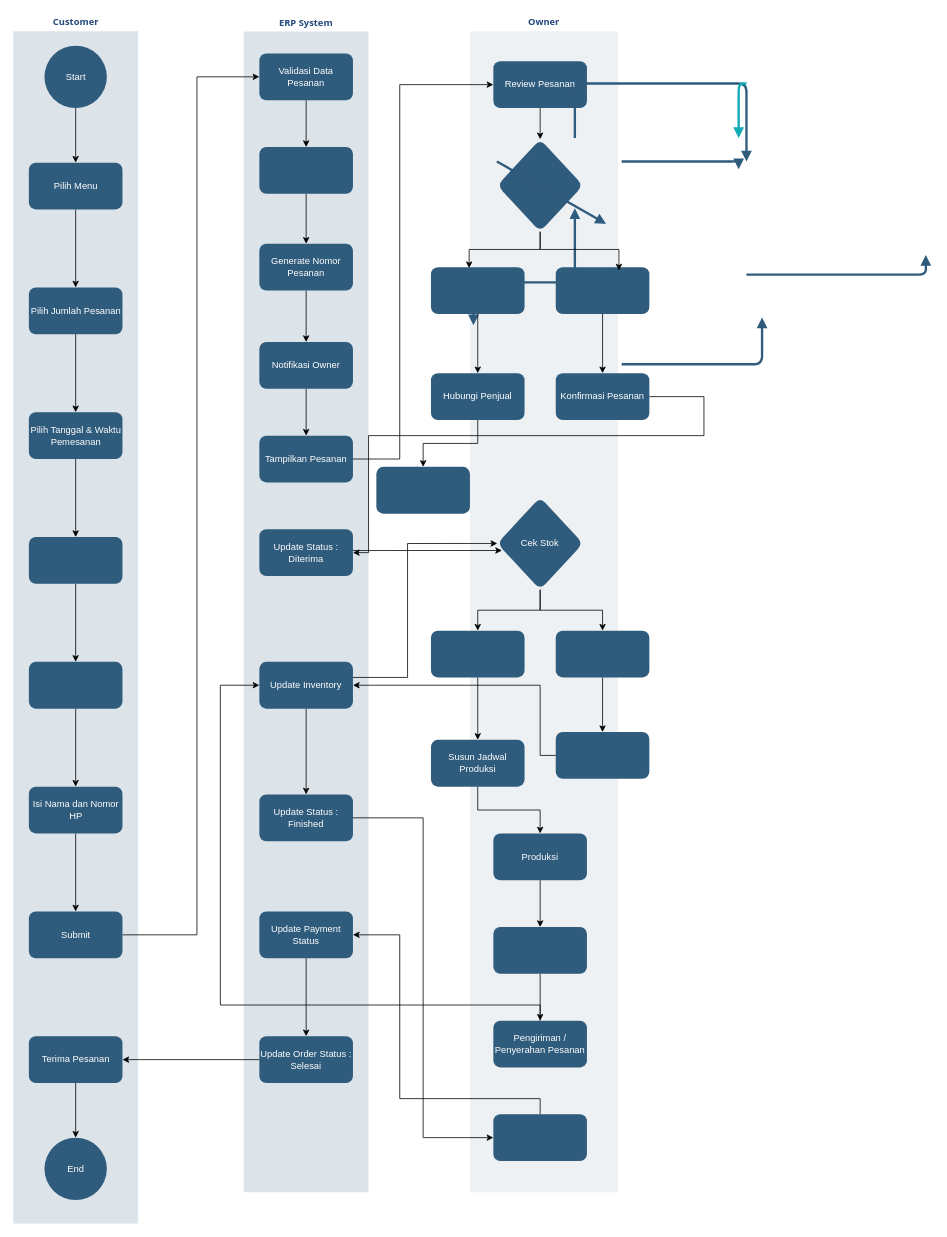
This 947x1237 diagram has some shape labels left out. The shapes that lost their labels are listed below. From the top down, each one's centre as x and y in pixels, then its label:
point 306,170: Simpan Pesanan
point 540,185: Perlu Diskusi?
point 477,290: Ya
point 602,290: Tidak
point 423,489: Update Detail Pesanan
point 75,560: Kustomisasi Pesanan
point 477,653: Cukup
point 602,653: Kurang/Habis
point 75,684: Catatan Pesanan
point 602,755: Beli
point 540,950: Pengemasan
point 540,1137: Catat Pembayaran
